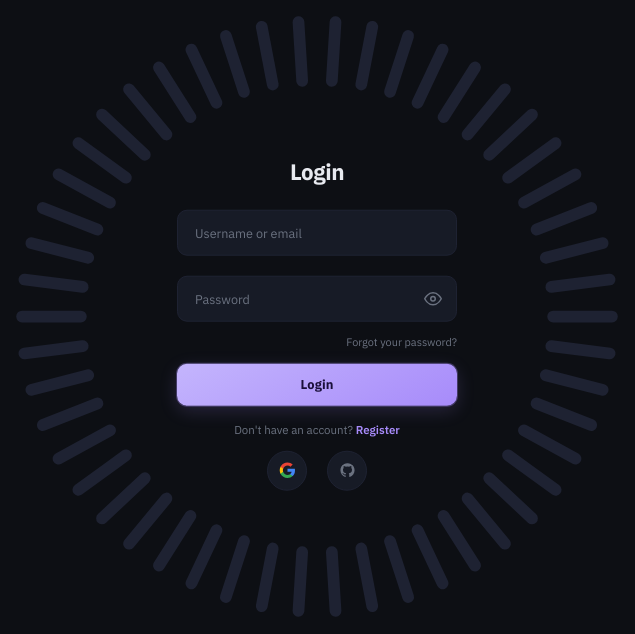
AuthPage › shows a backend error and does not redirect on failed login
Type "a@b.io" into the field labelled "Username or email" at (317, 232), box [177,209,457,255]
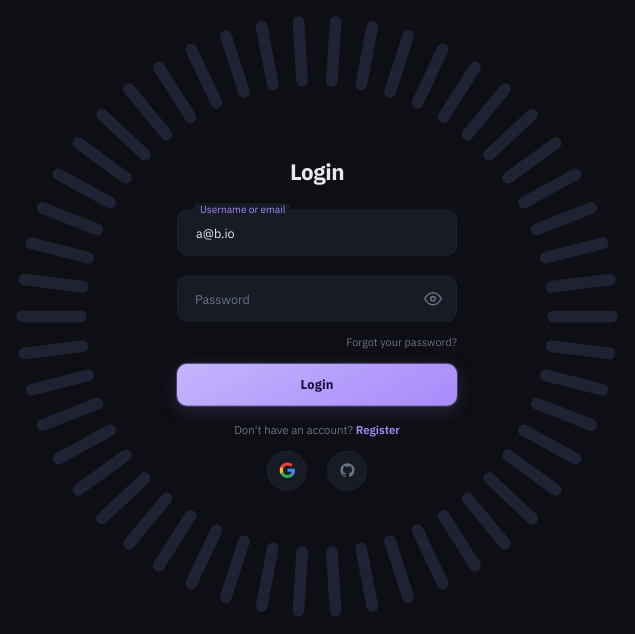
Type "x" into the password field labelled "Password" at (317, 298), box [177,275,457,321]
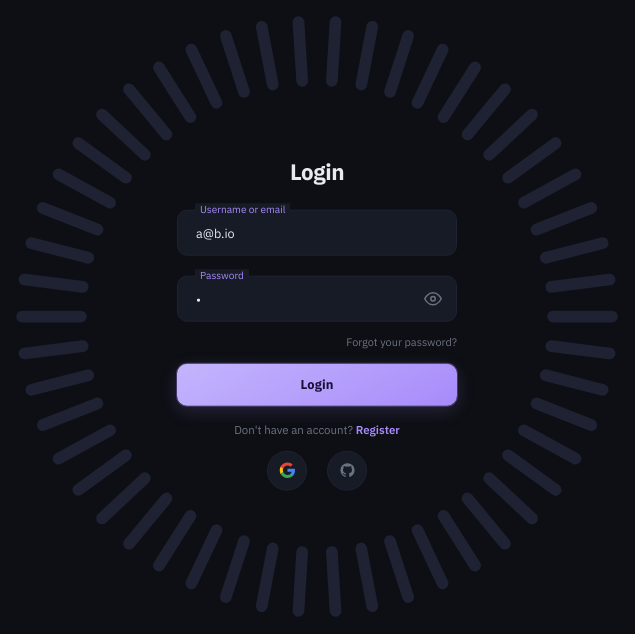
Click the button "Login" at (317, 384), box [177,363,457,405]
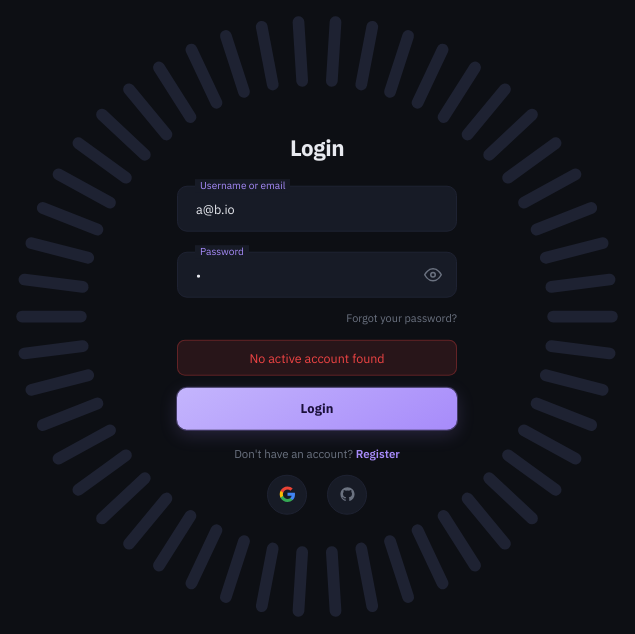
Result: the text "No active account found" is shown at [177,339,457,375]
